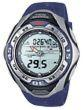watch: (5, 16, 78, 93)
